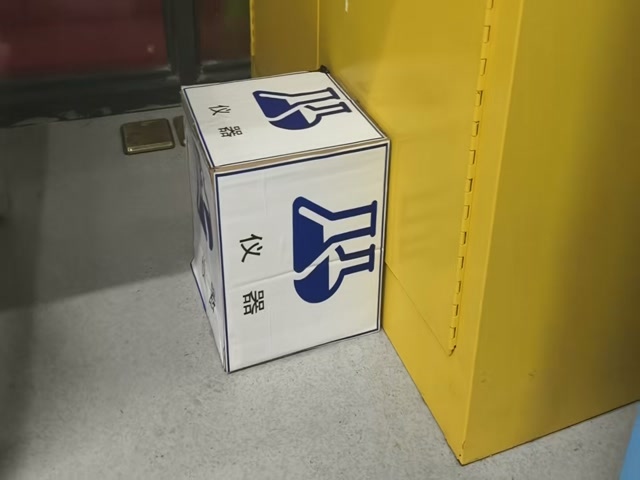Cube_ins: (178, 69, 391, 172)
